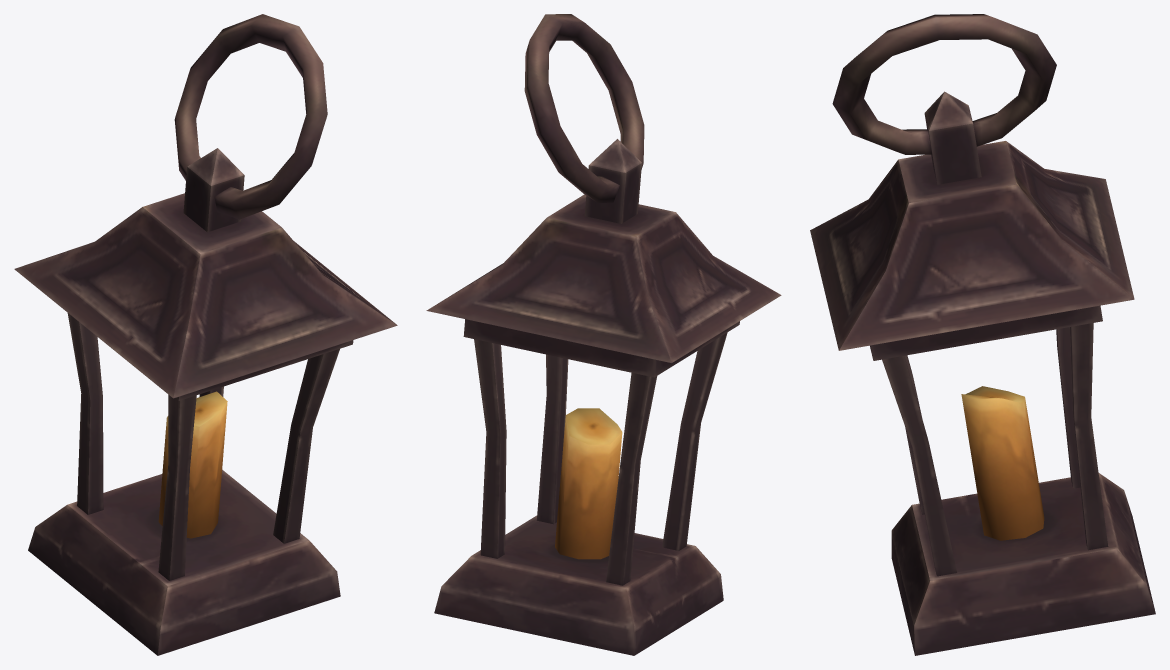
Rendered from Lantern_01 (9).fbx.
The picture shows the model from 3 angles, left to right: view 1: azimuth 30°, elevation 25°; view 2: azimuth 150°, elevation 25°; view 3: azimuth 270°, elevation 25°; orthographic projection. The views are drawn at different scales.
Parts seen in each view (by area): view 1: Lantern_01 (9); view 2: Lantern_01 (9); view 3: Lantern_01 (9).
Part boxes in pixels (<box>): Lantern_01 (9): <box>14,14,397,655</box>; Lantern_01 (9): <box>426,14,781,655</box>; Lantern_01 (9): <box>810,14,1155,655</box>.
Size of the model in its own units: 26.12 by 54.93 by 27.52.
Materials: 1 (1 with a texture image).
